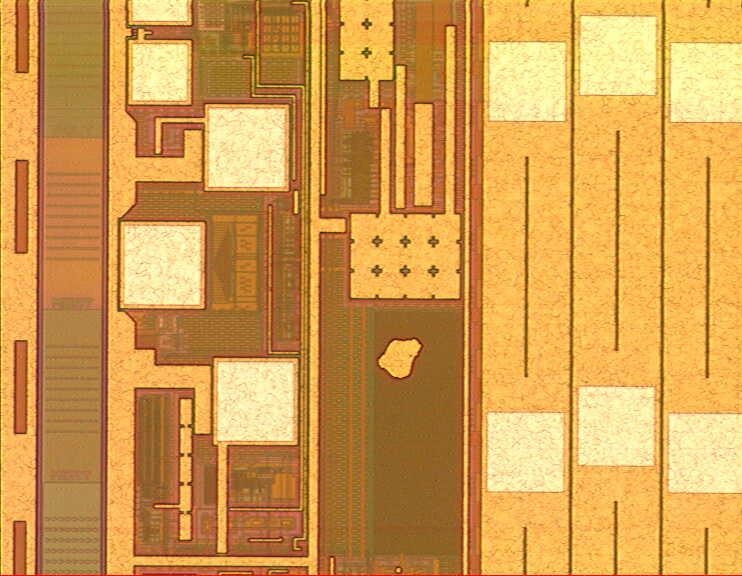BLOCK ETCH: (378, 335, 426, 383)
